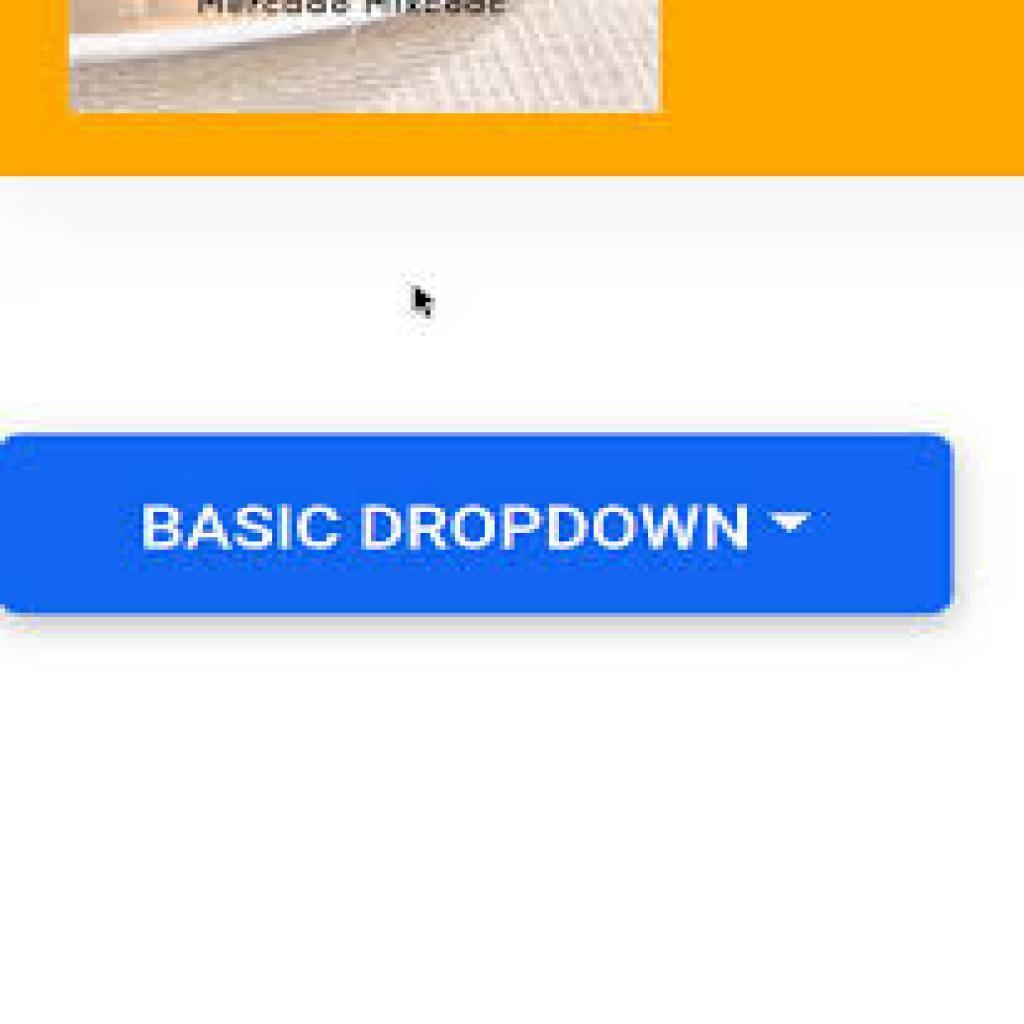dropdown: (4, 436, 953, 613)
